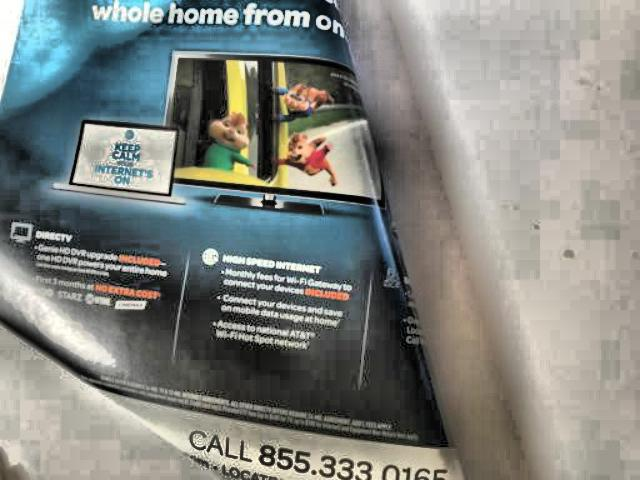Paper: (0, 0, 471, 480)
